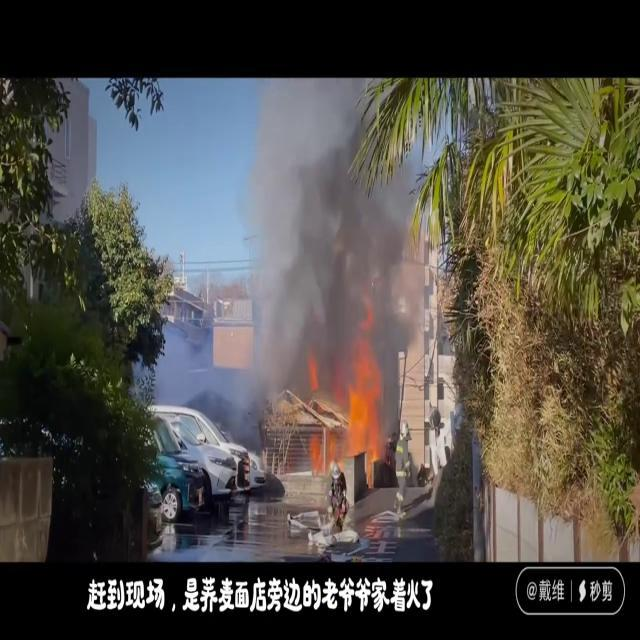Smoke: (229, 80, 433, 408)
